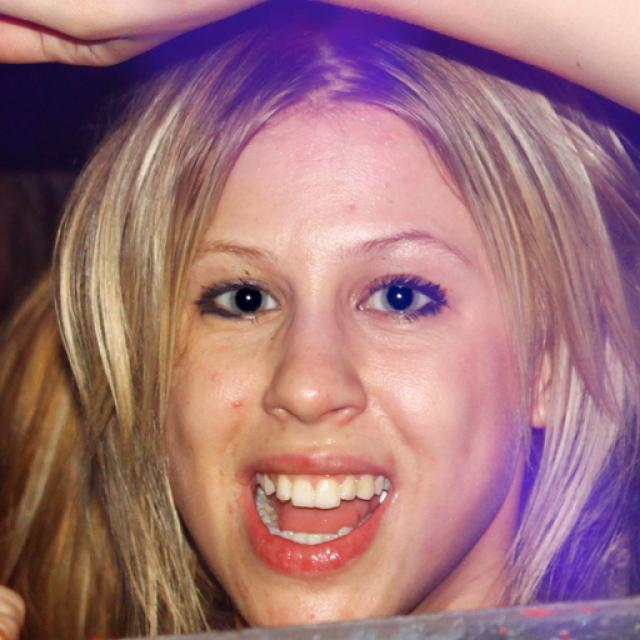Acne: (227, 392, 248, 413)
Spots: (334, 199, 363, 222)
